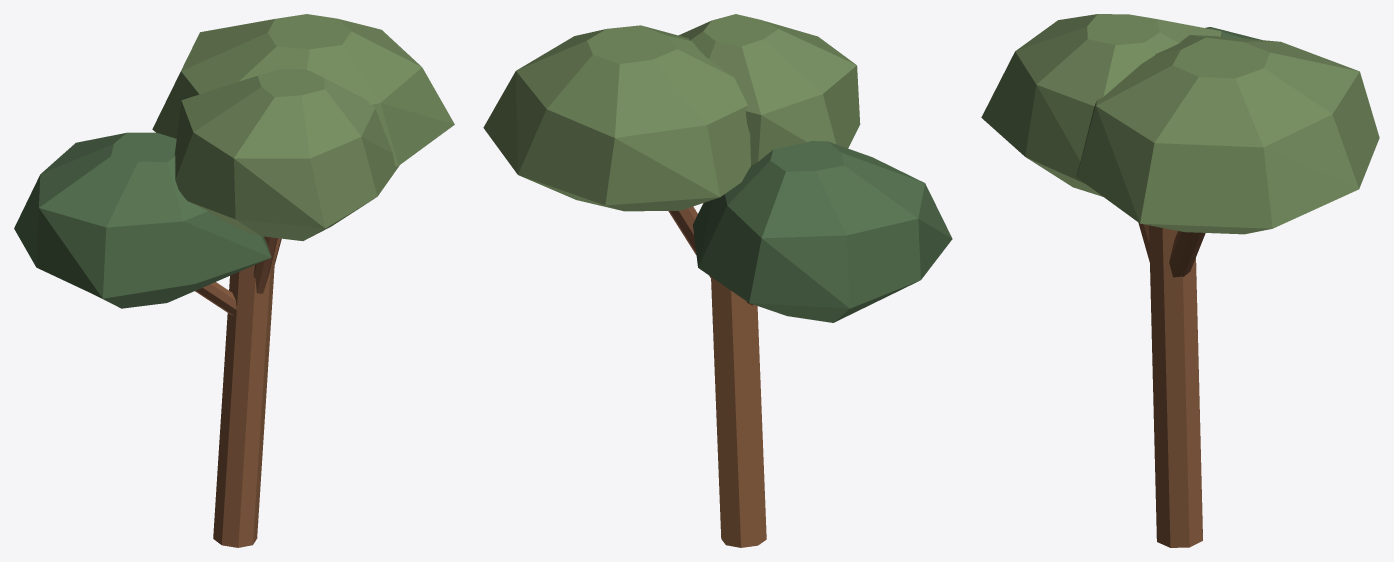
Rendered from tree_pine_v1530_01.glb.
3 views of the same model, side by side, from view 1: azimuth 30°, elevation 25°; view 2: azimuth 150°, elevation 25°; view 3: azimuth 270°, elevation 25° (orthographic). The views are drawn at different scales.
Visible parts, largest first — view 1: tree_pine_v1530_01; view 2: tree_pine_v1530_01; view 3: tree_pine_v1530_01.
Part boxes in pixels (<box>): tree_pine_v1530_01: <box>14,14,454,547</box>; tree_pine_v1530_01: <box>483,14,952,547</box>; tree_pine_v1530_01: <box>981,14,1379,547</box>.
Size of the model in its own units: 2.32 by 2.64 by 1.8.
